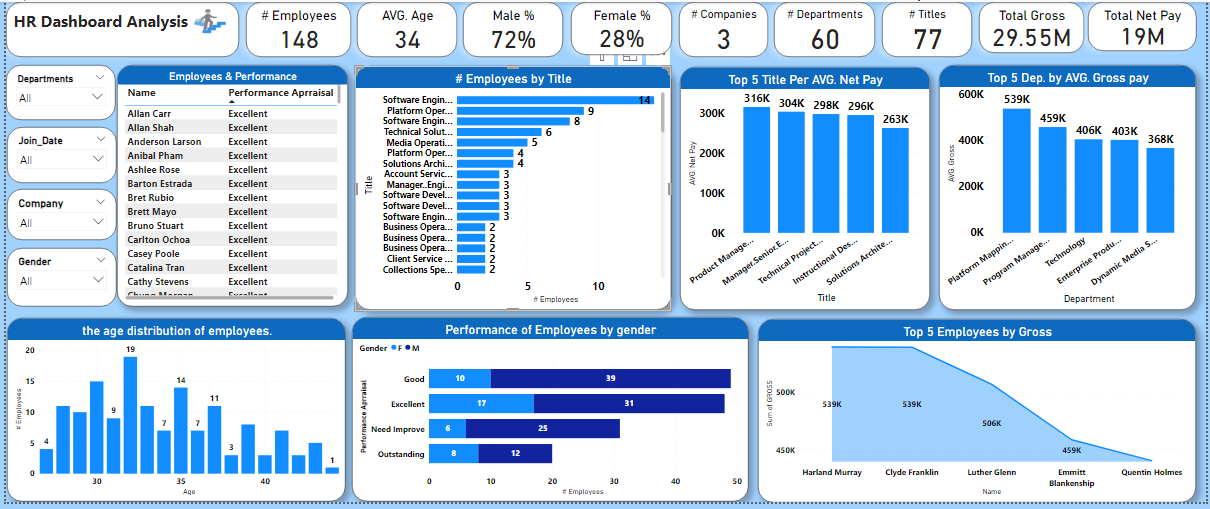

The page's visual inventory and layout, read from the dashboard file:
{"tool":"powerbi","page":{"name":"HR_Dashboard","canvas":[2400,1000],"ordinal":0},"visuals":[{"type":"card","title":"# Companies","fields":{"Values":["_Measures.# companies"]},"box":[1346,0,178,110],"z":0},{"type":"card","title":"# Departments","fields":{"Values":["_Measures.# Departments"]},"box":[1536,0,202,110],"z":1000},{"type":"card","title":"# Employees","fields":{"Values":["_Measures.# Employees"]},"box":[480,0,210,110],"z":2000},{"type":"columnChart","title":"Top 5 Title Per AVG. Net Pay","fields":{"Category":["Employee_Fact.Title"],"Y":["_Measures.AVG. Net Pay"]},"box":[1347.6,131,500,485.7],"z":3000},{"type":"columnChart","title":" the age distribution of employees.","fields":{"Category":["Employee_Fact.Age"],"Y":["_Measures.# Employees"]},"box":[1.9,632.7,676.9,367.3],"z":4000},{"type":"barChart","fields":{"Y":["_Measures.# Employees"],"Category":["Employee_Fact.Title"]},"box":[698.1,128.8,632.7,488.5],"z":5000},{"type":"barChart","title":"Performance of Employees by gender","fields":{"Category":["Employee_Fact.Performance Aprraisal"],"Y":["_Measures.# Employees"],"Series":["Employee_Fact.Gender"]},"box":[692.9,631,792.9,369],"z":6000},{"type":"columnChart","title":"Top 5 Dep. by AVG. Gross pay","fields":{"Category":["Department_Dim.Department"],"Y":["_Measures.AVG. Gross"]},"box":[1866.7,126.2,514.3,490.5],"z":7000},{"type":"card","title":"Total Gross","fields":{"Values":["_Measures.Total Gross Pay"]},"box":[1945.2,0,209.5,102.4],"z":8000},{"type":"card","title":"Total Net Pay ","fields":{"Values":["_Measures.Total Net Pay"]},"box":[2164.3,0,216.7,97.6],"z":9000},{"type":"card","title":"AVG. Age","fields":{"Values":["_Measures.AVG. Age"]},"box":[702,0,200,110],"z":10000},{"type":"tableEx","title":"Employees & Performance","fields":{"Values":["Employee_Fact.Name","Employee_Fact.Performance Aprraisal"]},"box":[221.4,126.2,461.9,483.3],"z":11000},{"type":"textbox","box":[0,0,466,110],"z":13000},{"type":"image","box":[366,0,86,80],"z":15000},{"type":"slicer","fields":{"Values":["Employee_Fact.Department"]},"box":[0,126.2,219,109.5],"z":16000},{"type":"slicer","fields":{"Values":["Employee_Fact.Join_Date.Variation.Date Hierarchy.Year"]},"box":[2.4,250,219,111.9],"z":17000},{"type":"card","title":"# Titles","fields":{"Values":["_Measures.# Titles"]},"box":[1752,0,180,110],"z":18000},{"type":"card","title":"Female %","fields":{"Values":["_Measures.Female %"]},"box":[1130,0,202,106],"z":19000},{"type":"card","title":"Male %","fields":{"Values":["_Measures.male %"]},"box":[914,0,200,110],"z":20000},{"type":"stackedAreaChart","title":"Top 5 Employees by Gross","fields":{"Category":["Employee_Fact.Name"],"Y":["Sum(Employee_Fact.GROSS)"]},"box":[1504.8,633.3,876.2,366.7],"z":21000},{"type":"slicer","fields":{"Values":["Employee_Fact.Company"]},"box":[2.4,373.8,219,102.4],"z":22000},{"type":"slicer","fields":{"Values":["Employee_Fact.Gender"]},"box":[2.4,492.9,219,116.7],"z":23000}]}

Visuals, with their boxes in screenshot pixels (x1, y1, x2, y2), scaled from the page's 2400x1000 canvas onto the 1210x509 screenshot:
"# Companies" card: 679, 0, 768, 56
"# Departments" card: 774, 0, 876, 56
"# Employees" card: 242, 0, 348, 56
"Top 5 Title Per AVG. Net Pay" columnChart: 679, 67, 931, 314
" the age distribution of employees." columnChart: 1, 322, 342, 508
barChart - _Measures.# Employees x Employee_Fact.Title: 352, 66, 671, 314
"Performance of Employees by gender" barChart: 349, 321, 749, 508
"Top 5 Dep. by AVG. Gross pay" columnChart: 941, 64, 1200, 314
"Total Gross" card: 981, 0, 1086, 52
"Total Net Pay " card: 1091, 0, 1200, 50
"AVG. Age" card: 354, 0, 455, 56
"Employees & Performance" tableEx: 112, 64, 344, 310
textbox: 0, 0, 235, 56
image: 185, 0, 228, 41
slicer - Employee_Fact.Department: 0, 64, 110, 120
slicer - Employee_Fact.Join_Date.Variation.Date Hierarchy.Year: 1, 127, 112, 184
"# Titles" card: 883, 0, 974, 56
"Female %" card: 570, 0, 672, 54
"Male %" card: 461, 0, 562, 56
"Top 5 Employees by Gross" stackedAreaChart: 759, 322, 1200, 508
slicer - Employee_Fact.Company: 1, 190, 112, 242
slicer - Employee_Fact.Gender: 1, 251, 112, 310
